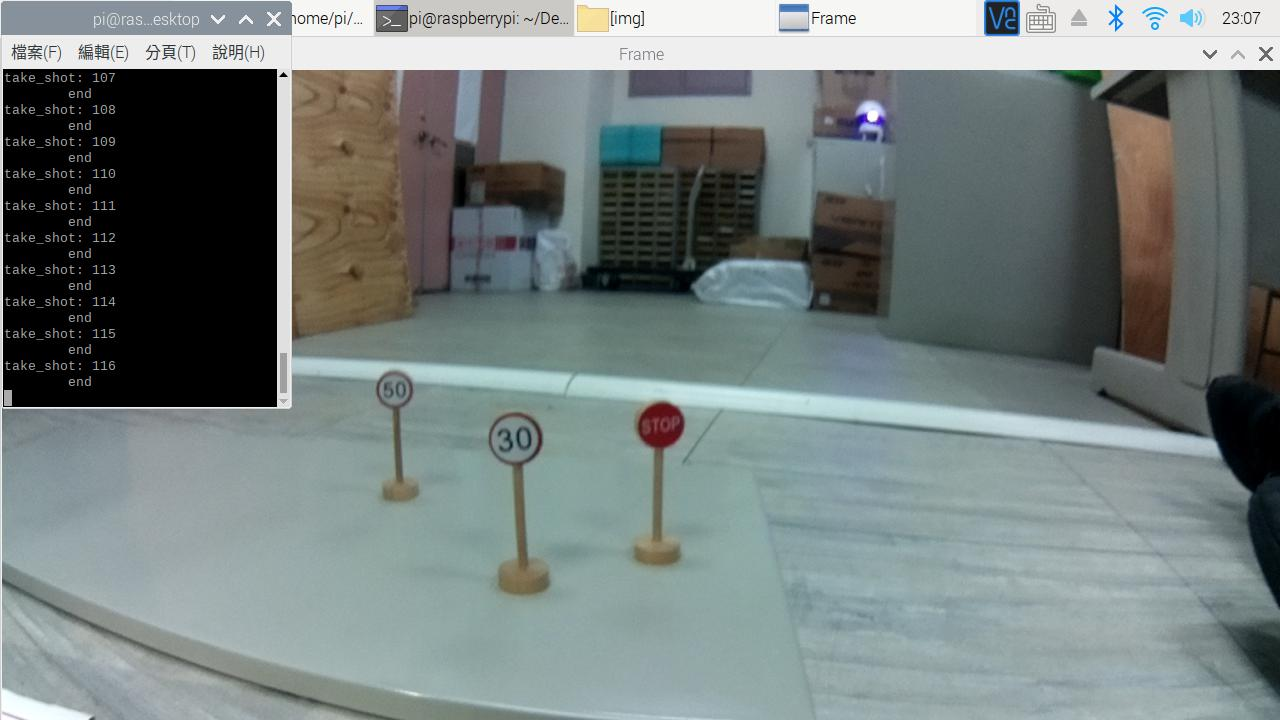Speed30: (485, 412, 553, 468)
Speed50: (366, 366, 427, 416)
Stop: (618, 396, 701, 453)
